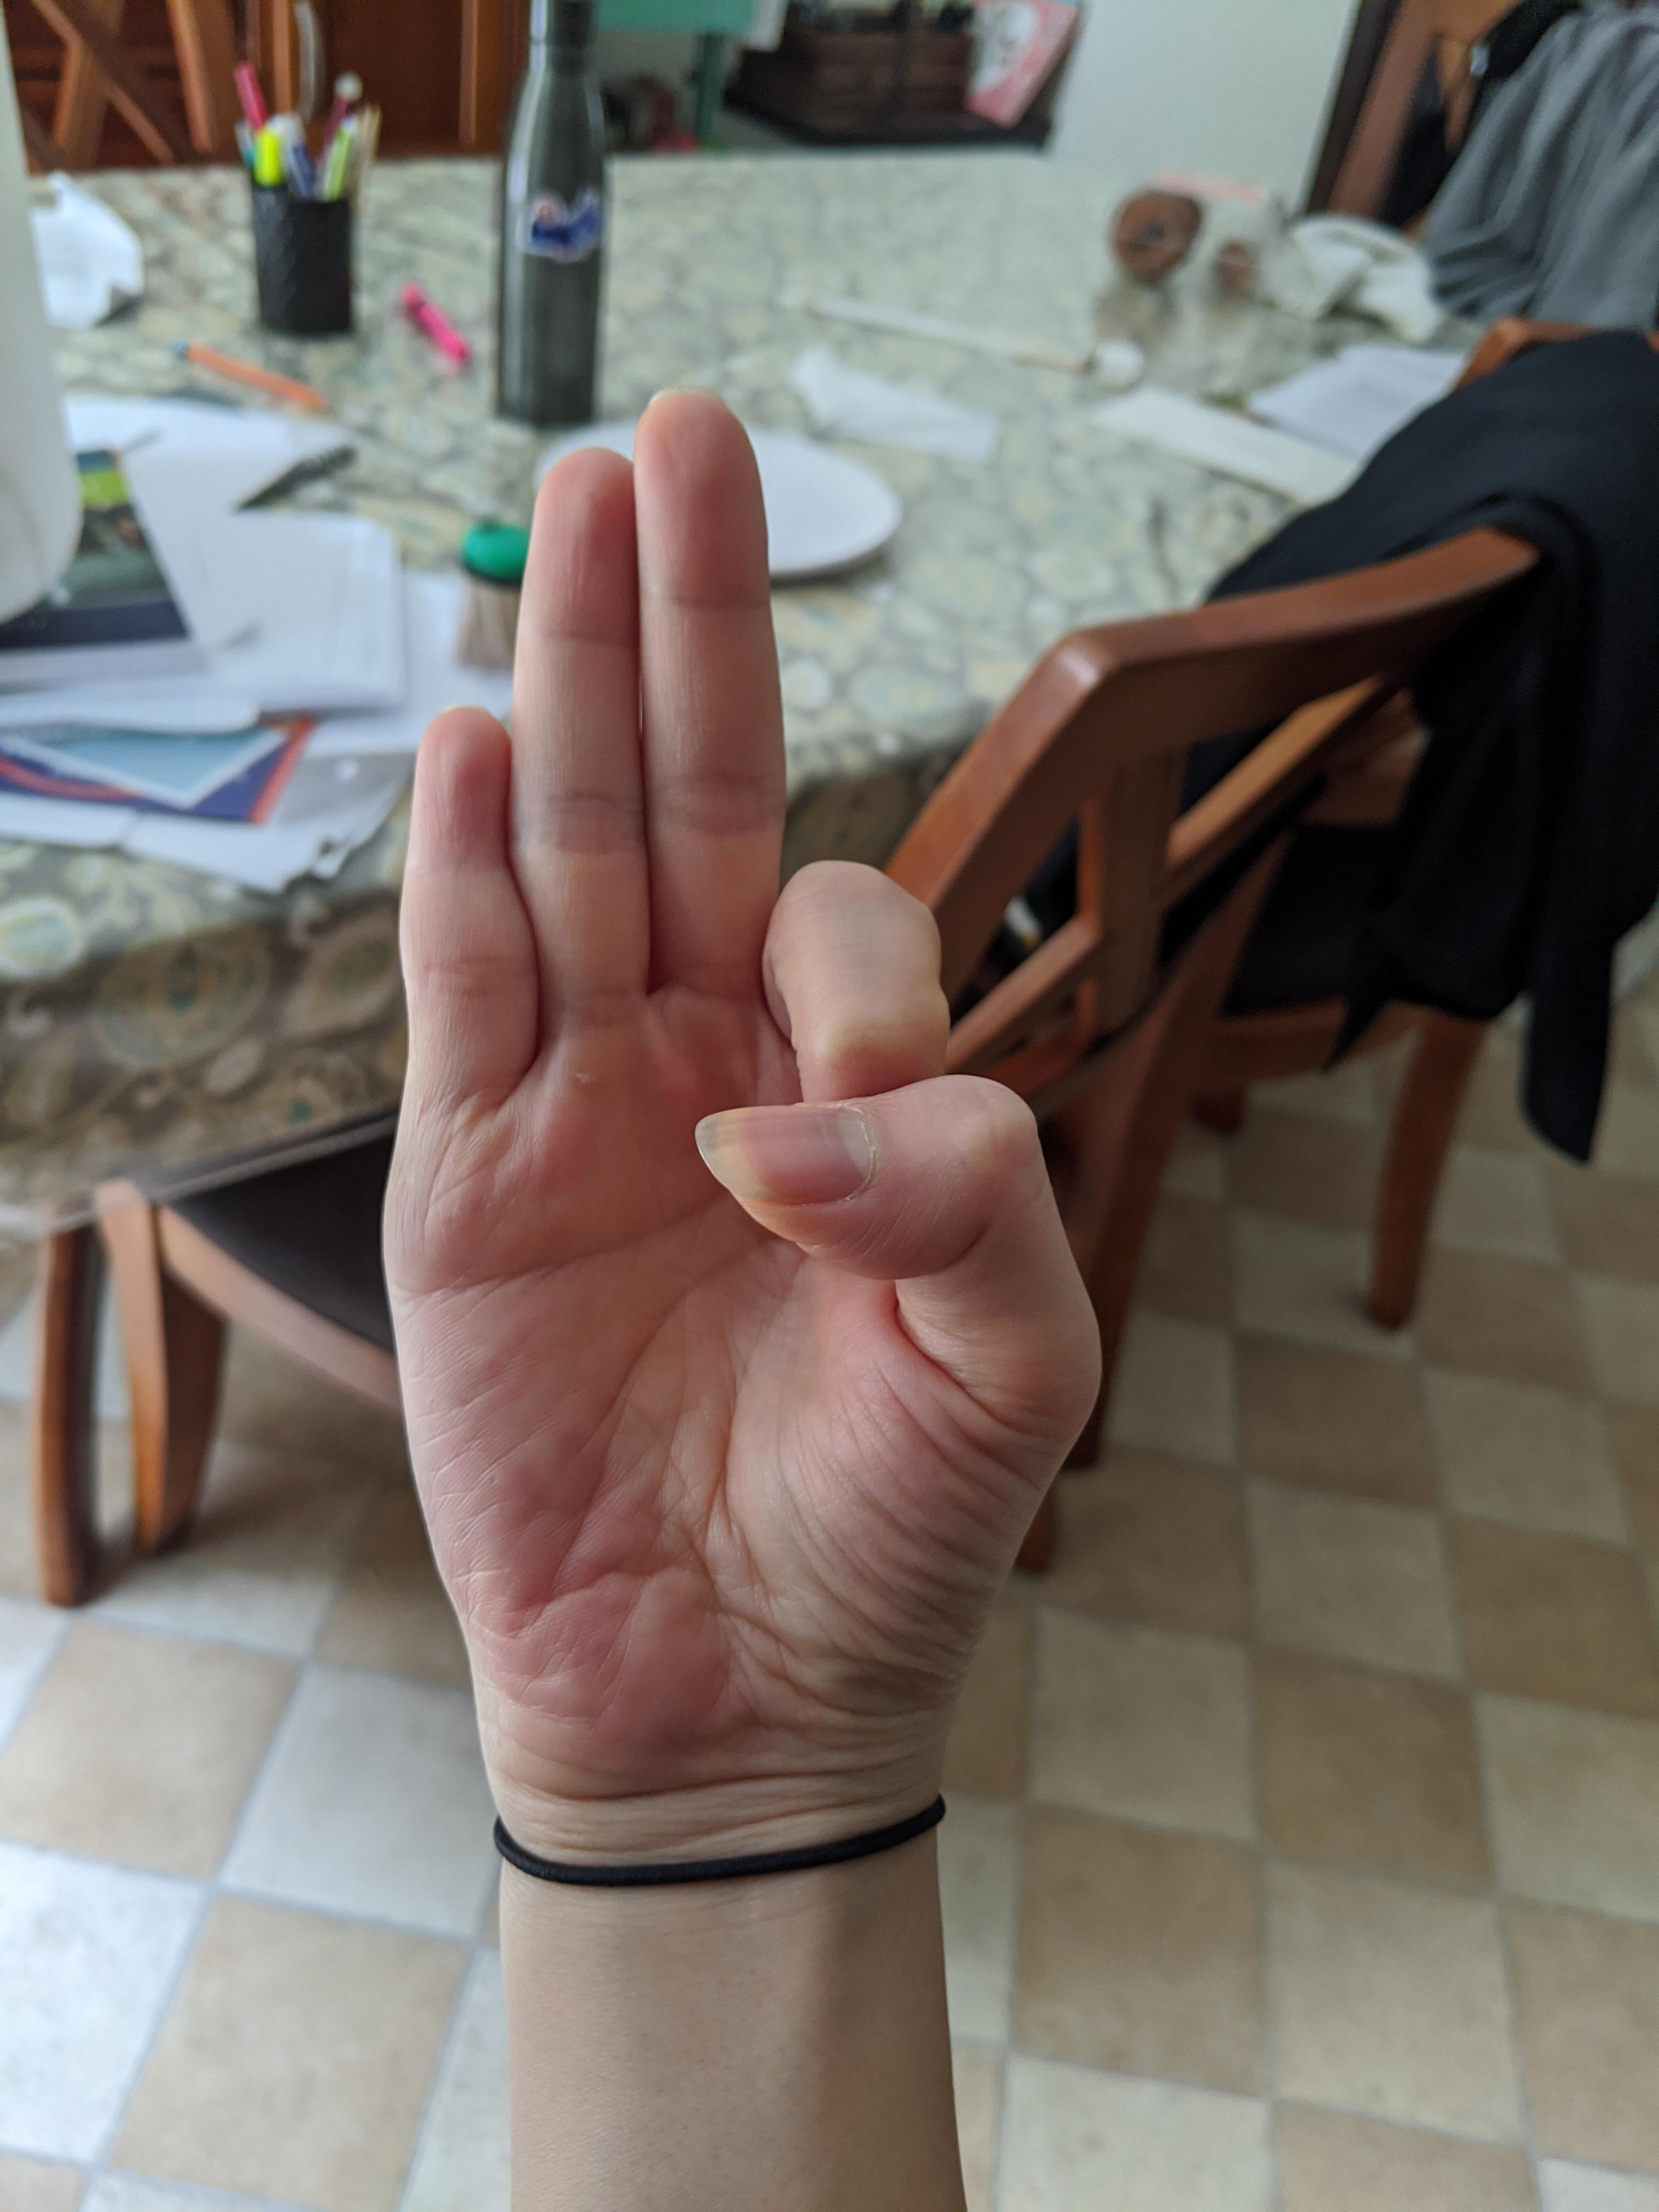F: (366, 373, 1125, 1835)
